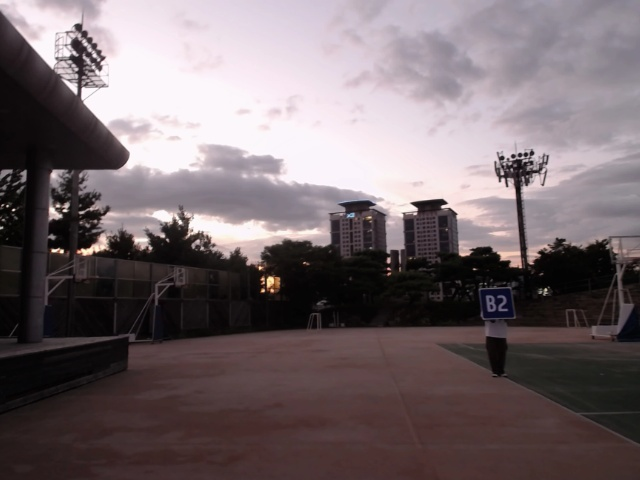delivery_b2: (479, 287, 517, 321)
